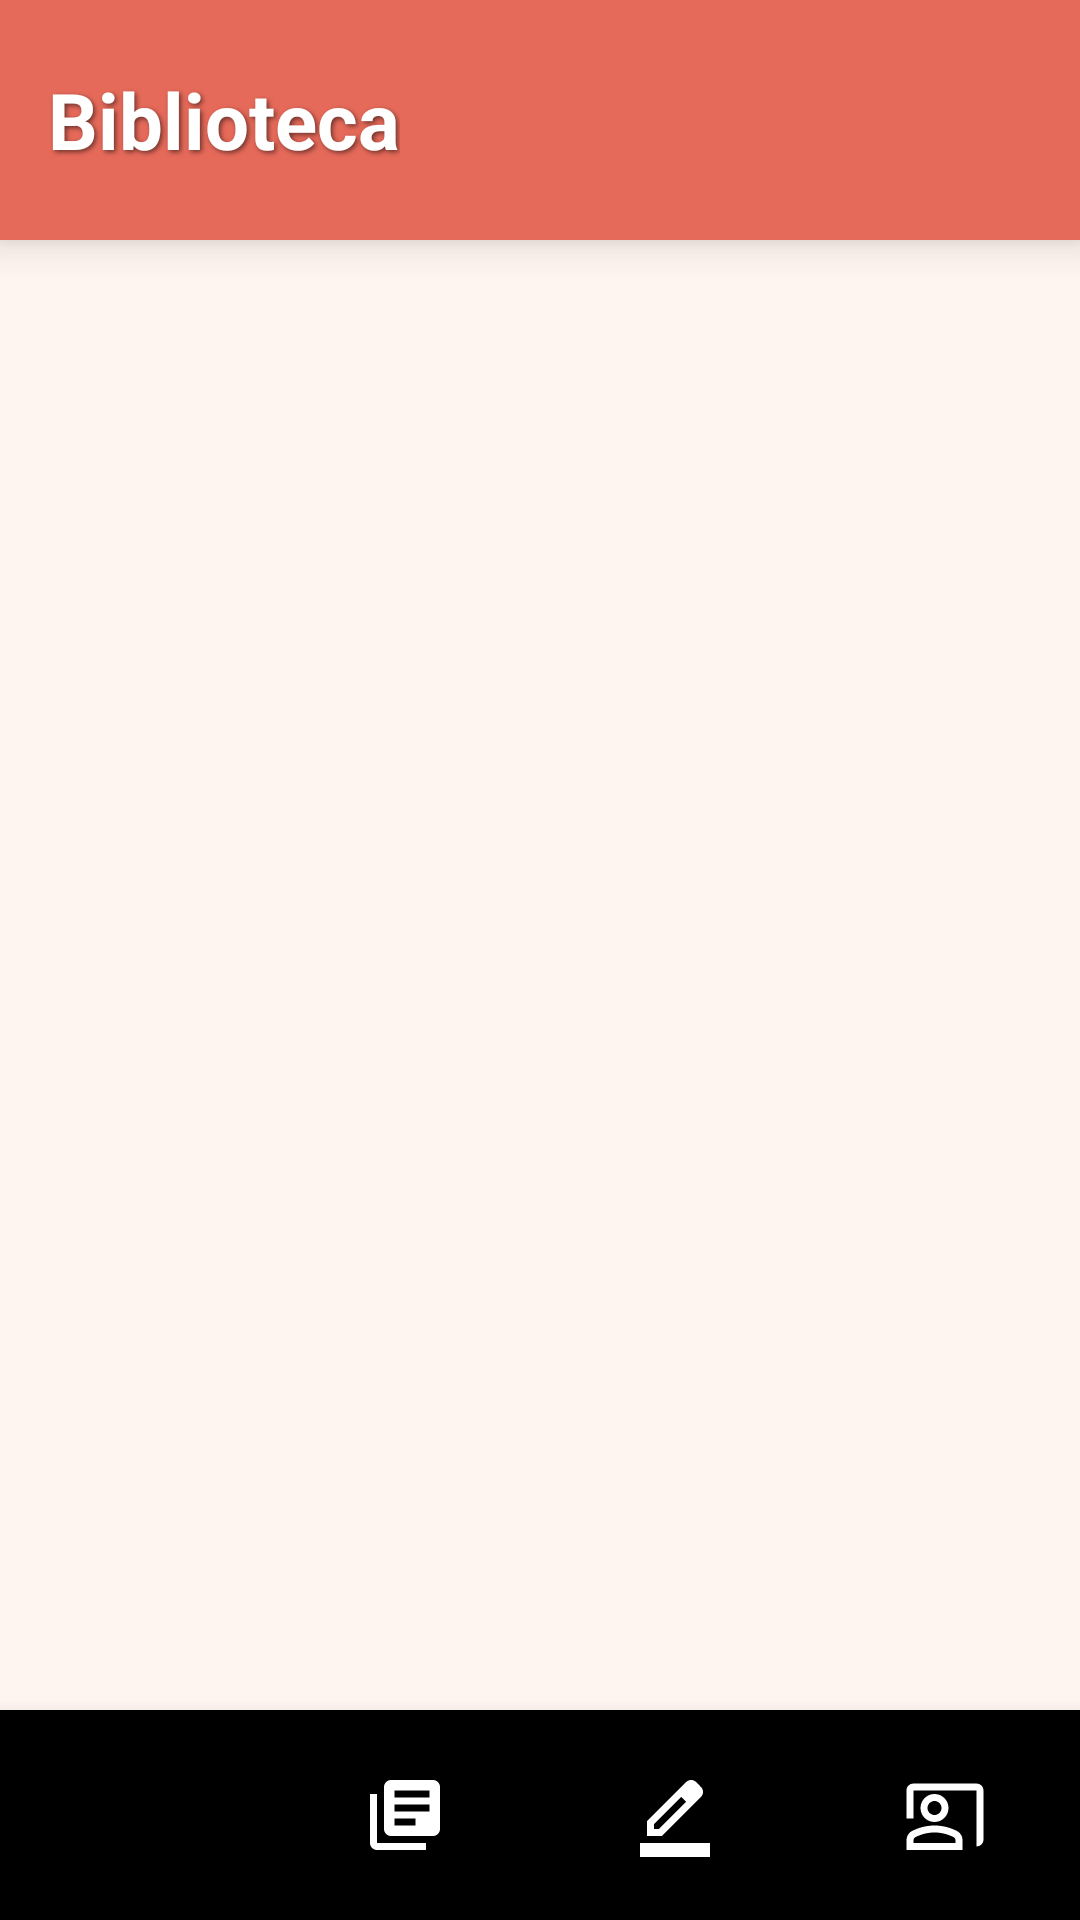

Icons on this 1080×1920 Android screen, each with its box as Rect(x1, y1, x2, y2):
edit: Rect(640, 1780, 710, 1857)
library: Rect(370, 1780, 440, 1850)
profile: Rect(906, 1783, 984, 1850)
